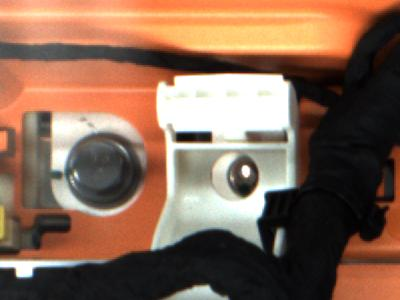nut_b: (50, 119, 159, 220)
